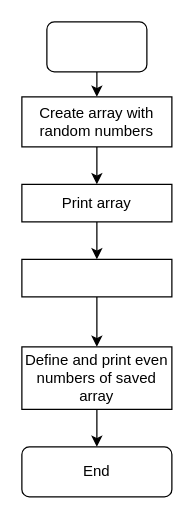
This 194x519 diagram has some shape labels left out. Here are the shapes that lost their labels. From the top down, the centre of each, then its label:
At (96,46): "Start".
At (96,277): "Save this array".
